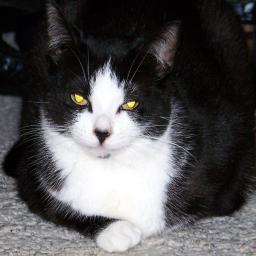catnose: (92, 124, 114, 144)
